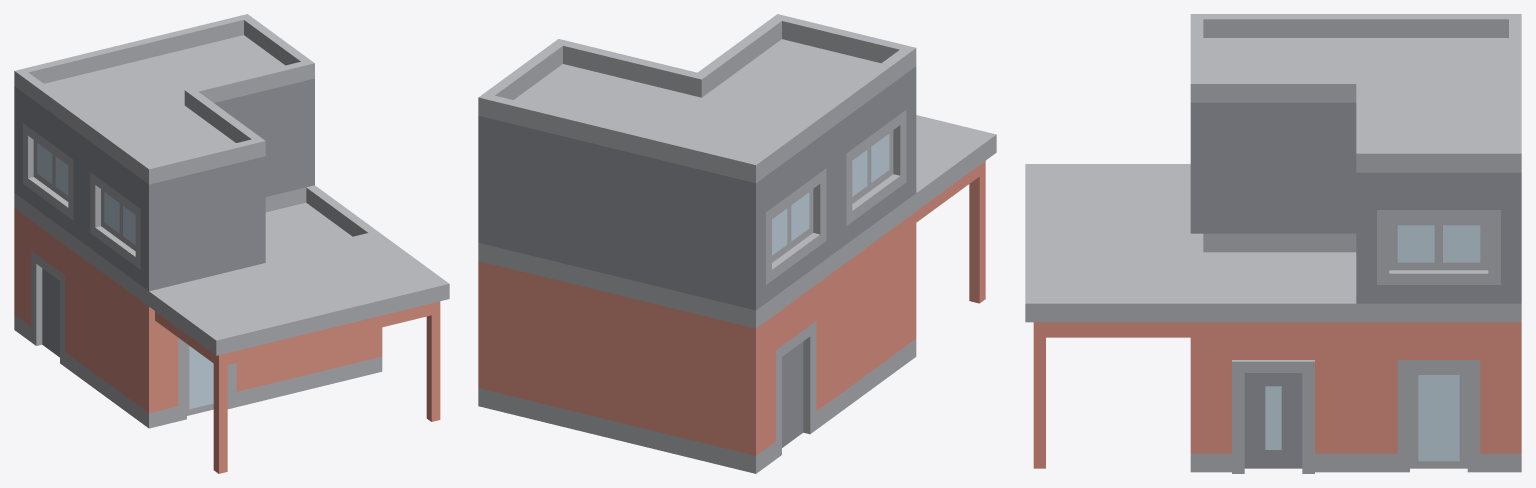
Rendered from house19.fbx.
The picture shows the model from 3 angles, left to right: view 1: azimuth 30°, elevation 25°; view 2: azimuth 150°, elevation 25°; view 3: azimuth 270°, elevation 25°; orthographic projection. The views are drawn at different scales.
Parts seen in each view (by area): view 1: house_type19; view 2: house_type19; view 3: house_type19.
Part boxes in pixels (x1,y1,x2,y2): house_type19: (14,14,449,473); house_type19: (478,14,996,473); house_type19: (1025,14,1521,473).
Size of the model in its own units: 810 by 850 by 1200.
